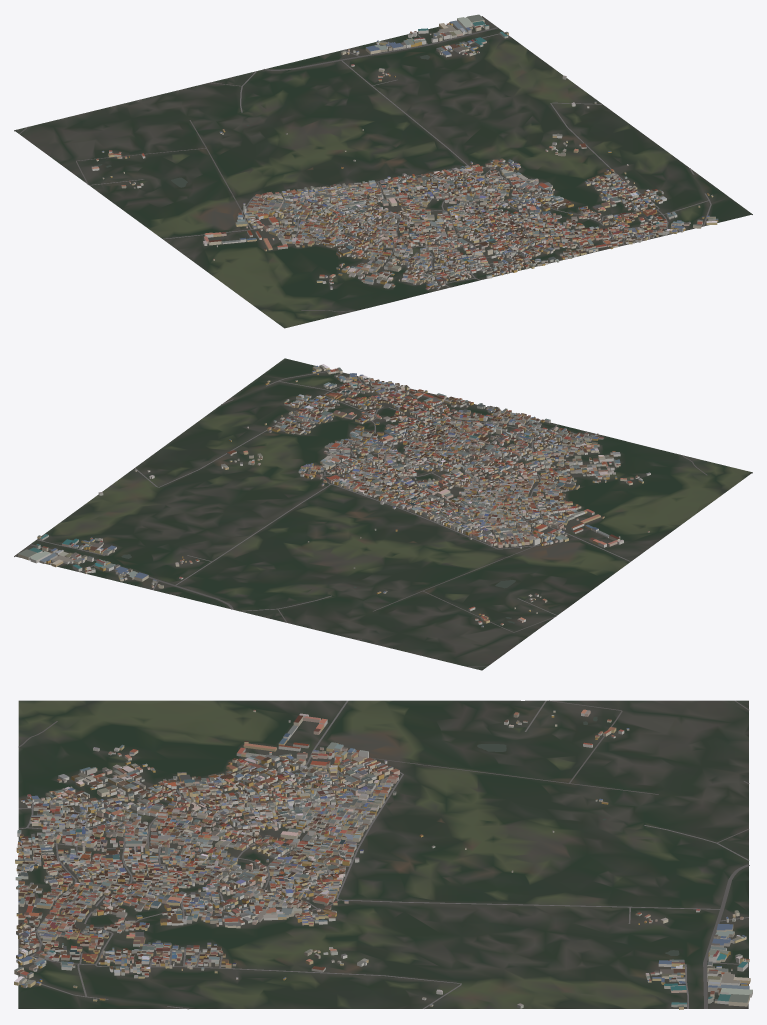
The picture shows the model from 3 angles, top to bottom: view 1: azimuth 30°, elevation 25°; view 2: azimuth 150°, elevation 25°; view 3: azimuth 270°, elevation 25°; orthographic projection. The views are drawn at different scales.
Visible parts, largest first — view 1: ground, buildings, roads; view 2: ground, buildings, roads; view 3: ground, buildings, roads.
Boxes of the visible parts, x1,y1,x2,y2 form: ground: (14,16,752,328); buildings: (91,14,718,289); roads: (19,27,711,311); ground: (14,358,752,670); buildings: (18,364,650,627); roads: (29,371,707,667); ground: (18,700,748,1008); buildings: (14,709,752,1009); roads: (18,700,749,1009).
Bounding box in the file's own units: 1404 × 19.54 × 1418.
